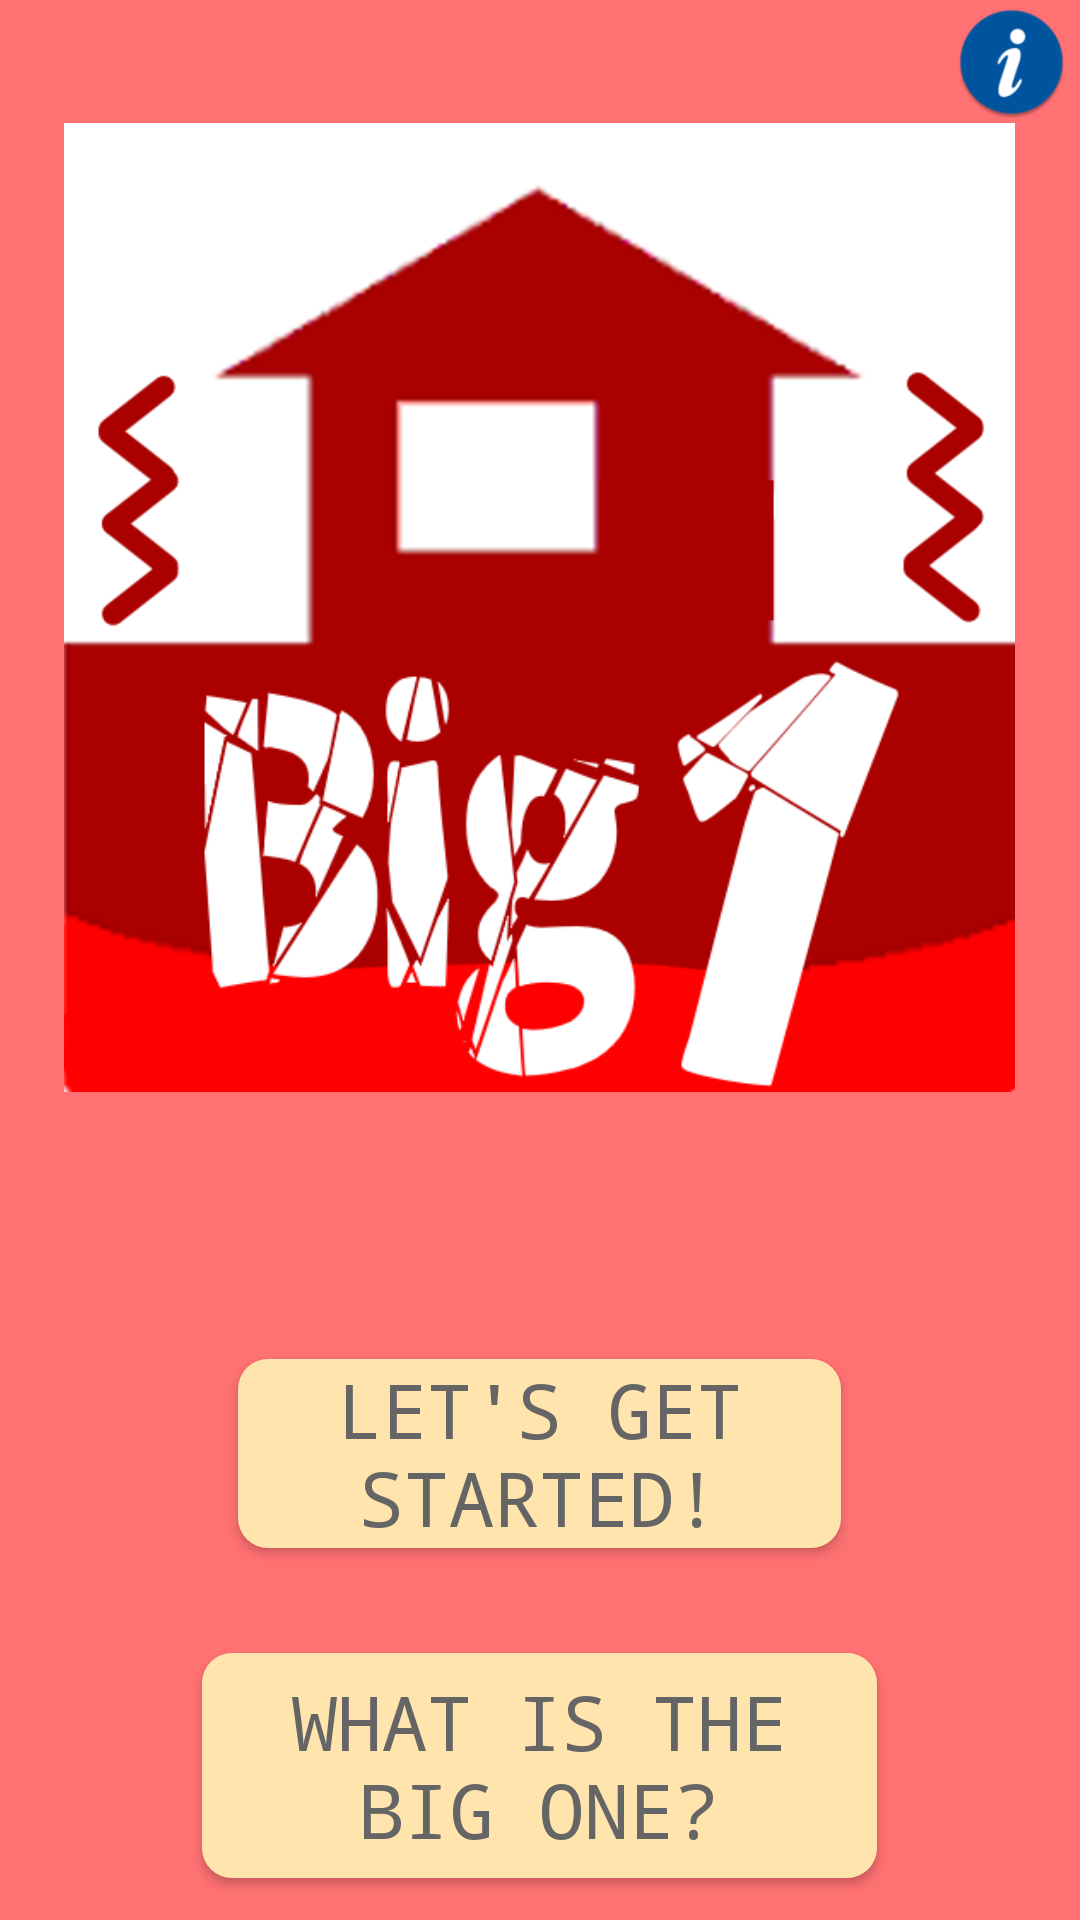

Screen size 1080×1920. Icon name, then its box in pixels as [x1=x1, y1=y1, x2=x2, y2=y2]:
info: [x1=960, y1=10, x2=1064, y2=117]
